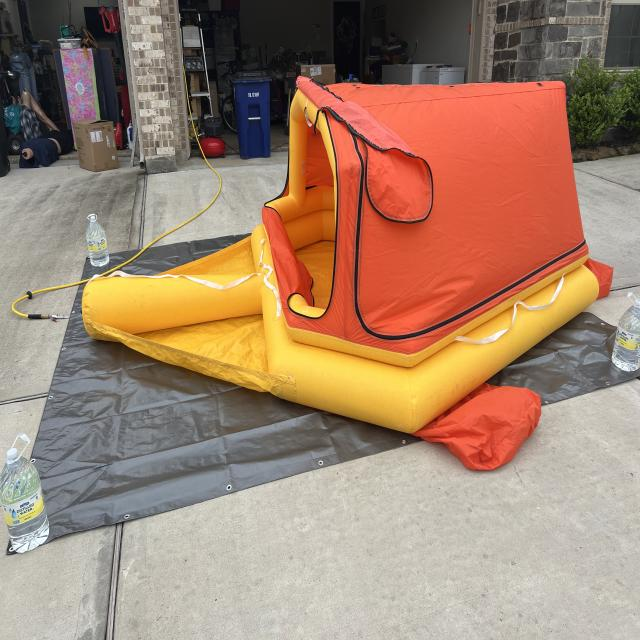Multi-person_life_raft: (80, 73, 614, 473)
